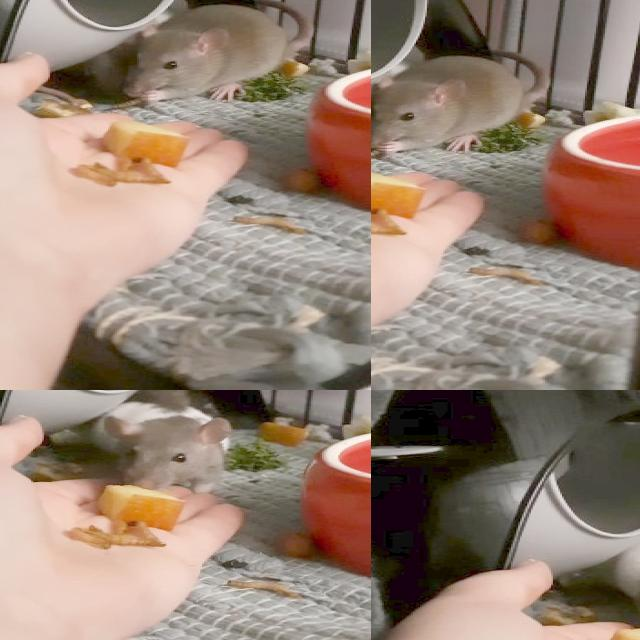rat: (116, 2, 292, 105), (371, 50, 531, 157), (78, 400, 232, 498), (594, 535, 640, 640), (132, 390, 208, 413)
